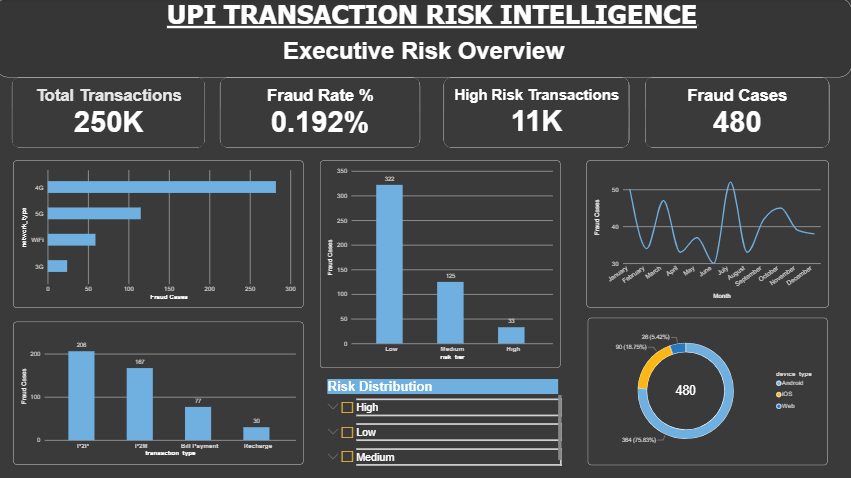

What the dashboard file says about the page in this screenshot:
{"tool":"powerbi","page":{"name":"Executive Risk Overview","canvas":[1920,1080],"ordinal":0},"visuals":[{"type":"cardVisual","fields":{"Data":["upi_risk_intelligence upi_transactions.Total Transactions"]},"box":[38.7,177.4,432.3,158.1],"z":0},{"type":"cardVisual","fields":{"Data":["upi_risk_intelligence upi_transactions.Fraud Cases"]},"box":[1454.8,177.4,412.9,158.1],"z":1000},{"type":"cardVisual","fields":{"Data":["upi_risk_intelligence upi_transactions.Fraud Rate %"]},"box":[503.2,177.4,448.4,158.1],"z":2000},{"type":"cardVisual","fields":{"Data":["upi_risk_intelligence upi_transactions.High Risk Transactions"]},"box":[1003.2,177.4,416.1,158.1],"z":3000},{"type":"clusteredColumnChart","fields":{"Category":["upi_risk_intelligence upi_transactions.risk_tier"],"Y":["upi_risk_intelligence upi_transactions.Fraud Cases"]},"box":[729,364.5,538.7,464.5],"z":4000},{"type":"lineChart","fields":{"Category":["upi_risk_intelligence upi_transactions.transaction_timestamp.Variation.Date Hierarchy.Month"],"Y":["upi_risk_intelligence upi_transactions.Fraud Cases"]},"box":[1325.8,364.5,541.9,329],"z":5000},{"type":"clusteredColumnChart","fields":{"Category":["upi_risk_intelligence upi_transactions.transaction_type"],"Y":["upi_risk_intelligence upi_transactions.Fraud Cases"]},"box":[40.5,725.7,650,320],"z":6000},{"type":"barChart","fields":{"Category":["upi_risk_intelligence upi_transactions.network_type"],"Y":["upi_risk_intelligence upi_transactions.Fraud Cases"]},"box":[40,363.3,650,330],"z":7000},{"type":"donutChart","fields":{"Category":["upi_risk_intelligence upi_transactions.device_type"],"Y":["upi_risk_intelligence upi_transactions.Fraud Cases"]},"box":[1326.7,716.7,536.7,330],"z":8000},{"type":"slicer","fields":{"Values":["upi_risk_intelligence upi_transactions.risk_tier","upi_risk_intelligence upi_transactions.transaction_type","upi_risk_intelligence upi_transactions.network_type","upi_risk_intelligence upi_transactions.sender_state"]},"box":[735.5,851.6,532.3,193.5],"z":9000},{"type":"textbox","box":[0,0,1919.4,177.4],"z":10000}]}

Visuals, with their boxes in screenshot pixels (x1, y1, x2, y2), scaled from the page's 1920x1080 canvas onto the 851x478 screenshot:
cardVisual - upi_risk_intelligence upi_transactions.Total Transactions: rect(17, 79, 209, 148)
cardVisual - upi_risk_intelligence upi_transactions.Fraud Cases: rect(645, 79, 828, 148)
cardVisual - upi_risk_intelligence upi_transactions.Fraud Rate %: rect(223, 79, 422, 148)
cardVisual - upi_risk_intelligence upi_transactions.High Risk Transactions: rect(445, 79, 629, 148)
clusteredColumnChart - upi_risk_intelligence upi_transactions.risk_tier x upi_risk_intelligence upi_transactions.Fraud Cases: rect(323, 161, 562, 367)
lineChart - upi_risk_intelligence upi_transactions.transaction_timestamp.Variation.Date Hierarchy.Month x upi_risk_intelligence upi_transactions.Fraud Cases: rect(588, 161, 828, 307)
clusteredColumnChart - upi_risk_intelligence upi_transactions.transaction_type x upi_risk_intelligence upi_transactions.Fraud Cases: rect(18, 321, 306, 463)
barChart - upi_risk_intelligence upi_transactions.network_type x upi_risk_intelligence upi_transactions.Fraud Cases: rect(18, 161, 306, 307)
donutChart - upi_risk_intelligence upi_transactions.device_type x upi_risk_intelligence upi_transactions.Fraud Cases: rect(588, 317, 826, 463)
slicer - upi_risk_intelligence upi_transactions.risk_tier x upi_risk_intelligence upi_transactions.transaction_type: rect(326, 377, 562, 463)
textbox: rect(0, 0, 850, 79)
